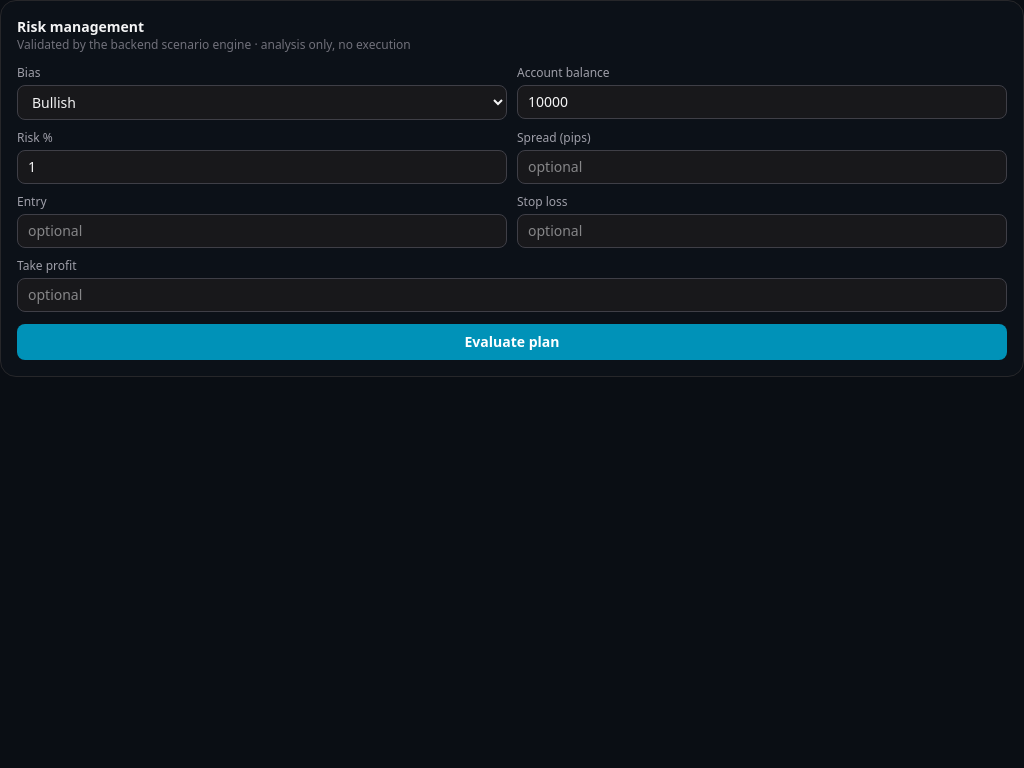
Test: RiskPanel › posts the user's inputs to the trade-plan endpoint
The width and height of the screenshot is (1024, 768).
Replace the text in the number field with test id "risk-balance" with "25000" at point(762, 102), box [517,85,1007,119]
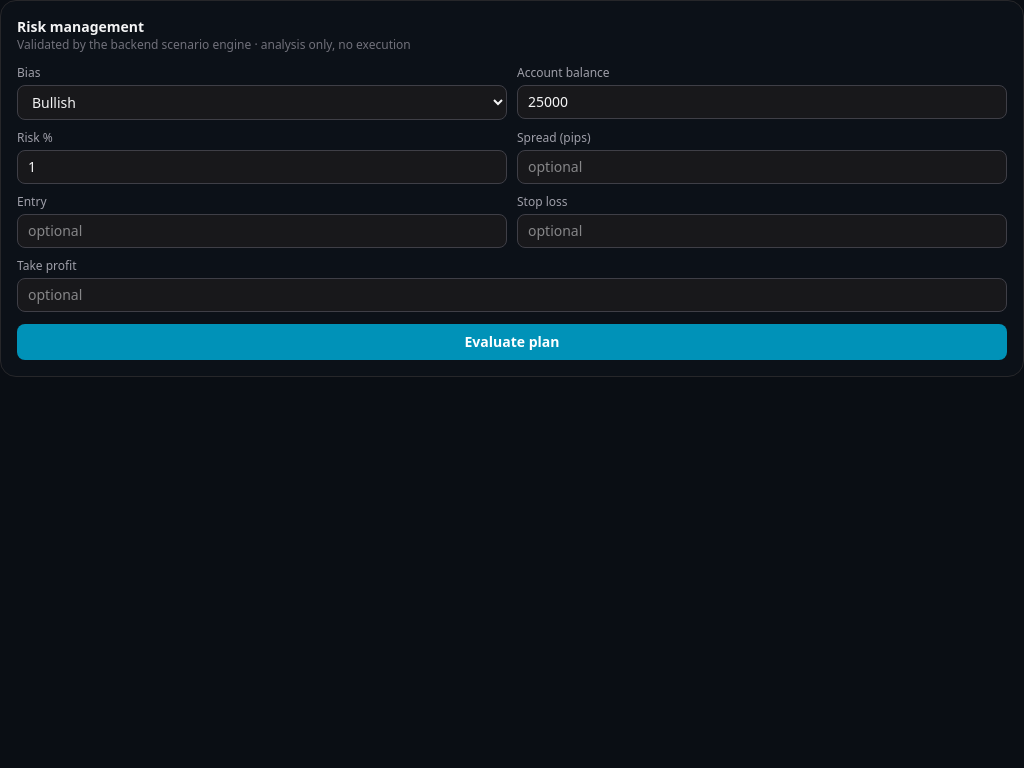
Replace the text in the number field with test id "risk-percent" with "0.5" at point(262, 167), box [17,150,507,184]
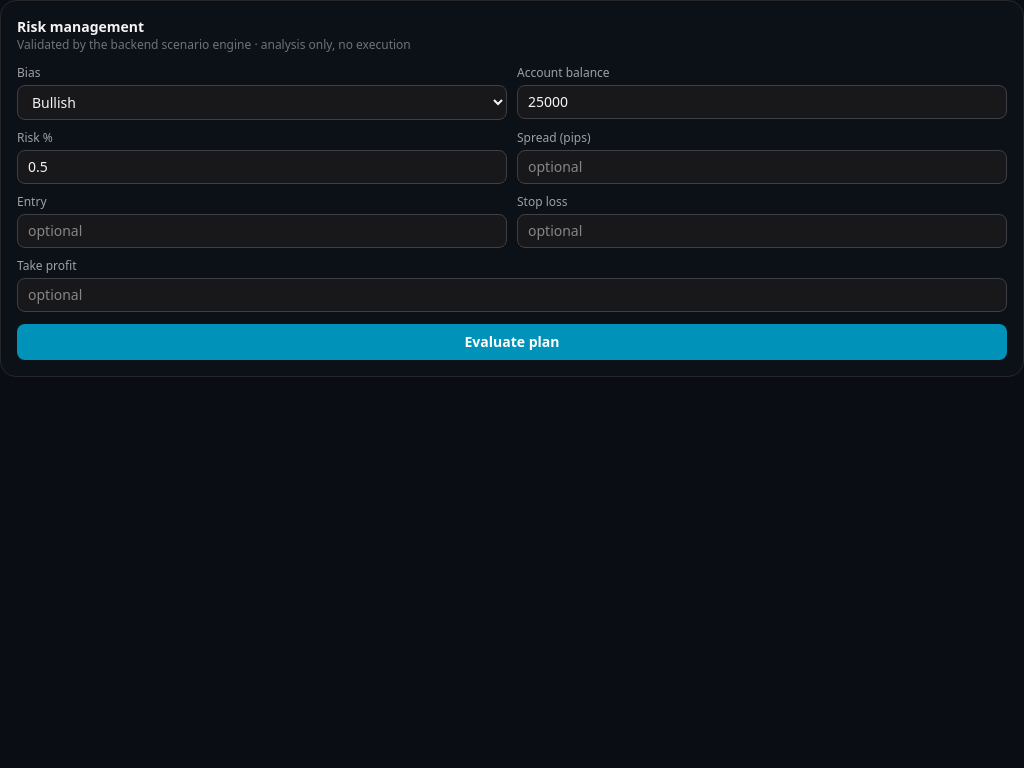
Type "1.1002" into the number field with test id "risk-entry".
click(262, 231); type("1.1002")  # box [17,214,507,248]
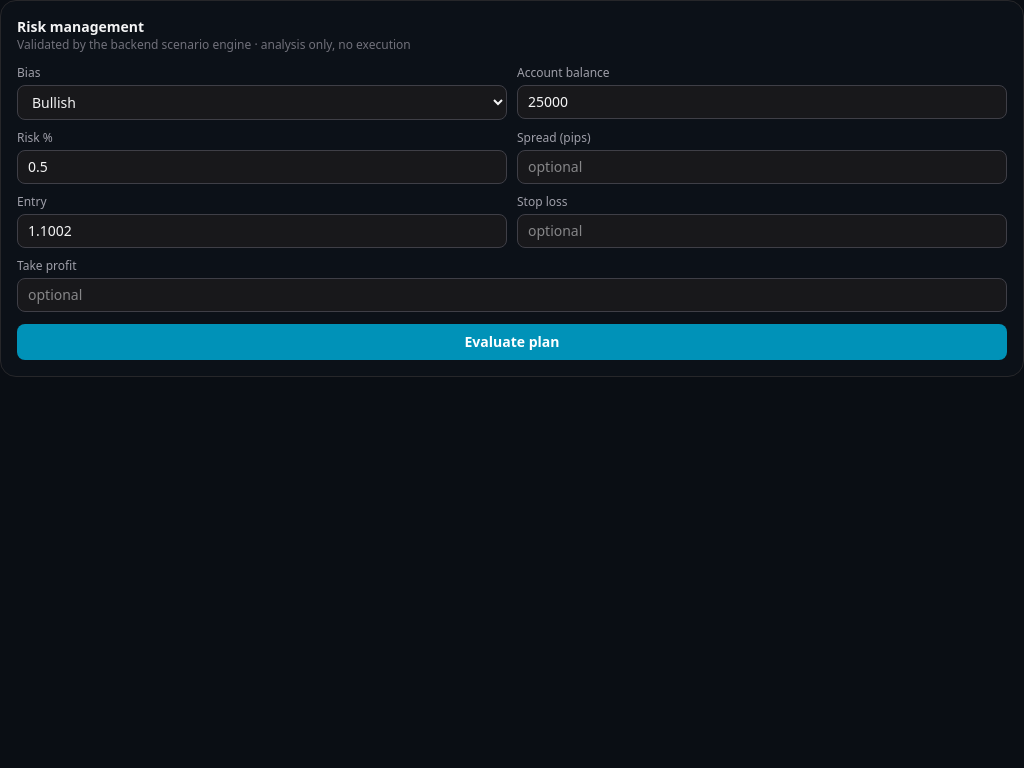
Type "1.099" into the number field with test id "risk-sl".
click(762, 231); type("1.099")  # box [517,214,1007,248]
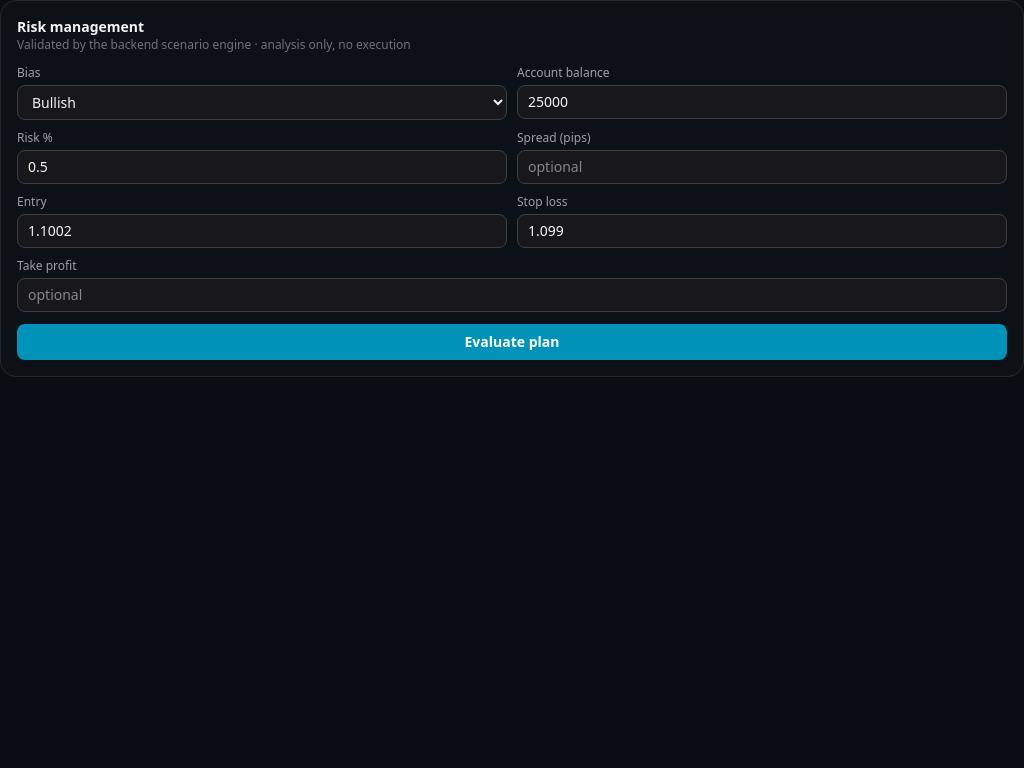
Type "1.103" into the number field with test id "risk-tp".
click(512, 295); type("1.103")  # box [17,278,1007,312]
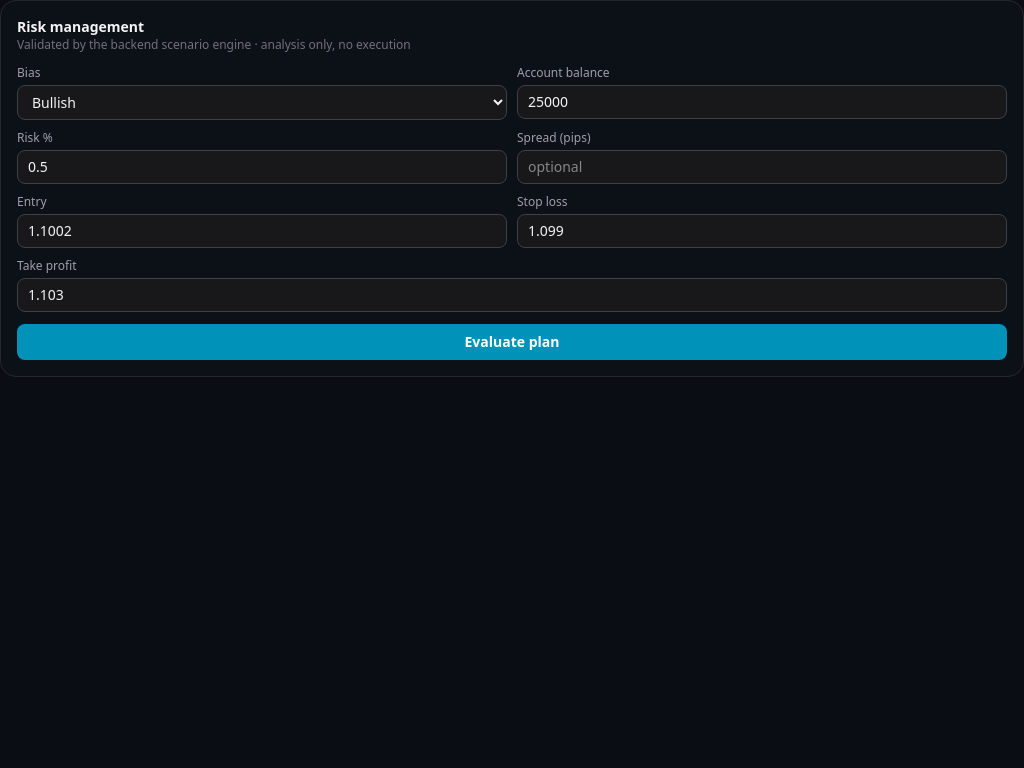
Click the button with test id "compute-plan".
click(512, 342)  # box [17,324,1007,360]
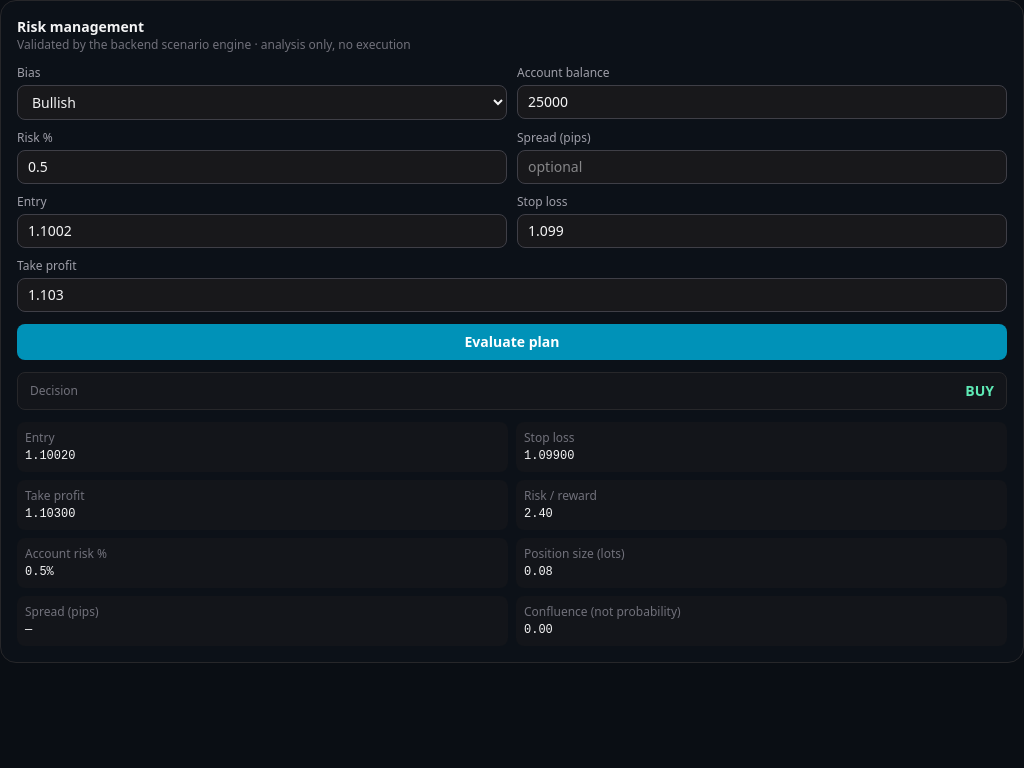
expect the element with test id "risk-result" is shown: met, box [17,372,1007,646]
